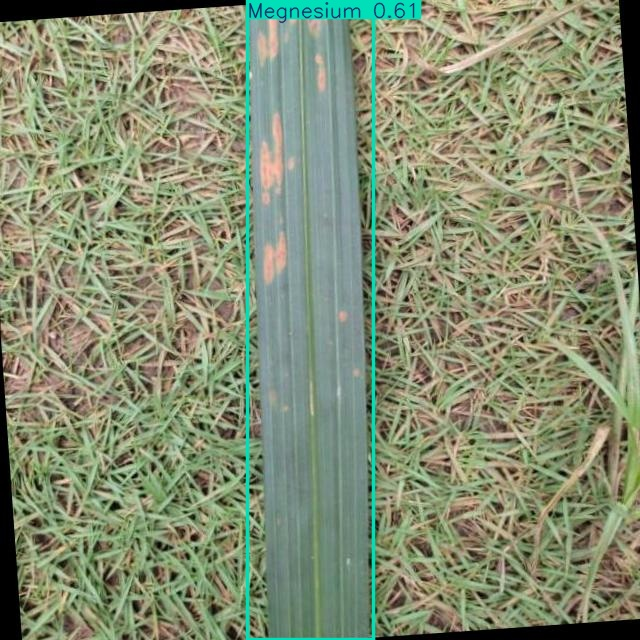Megnesium: (248, 0, 374, 640)
